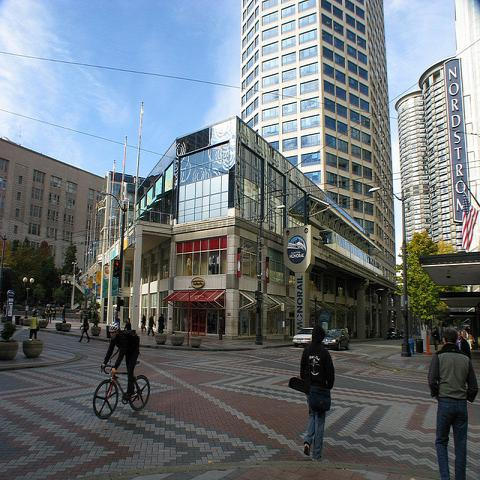car: (322, 329, 350, 350), (292, 328, 313, 348)
